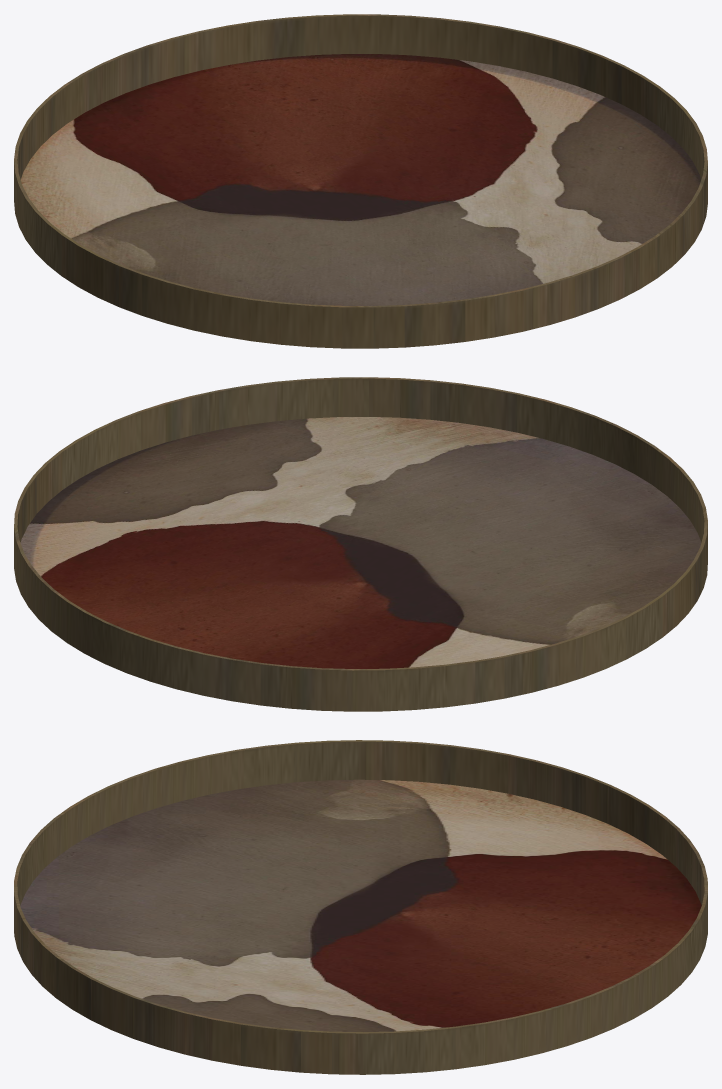
File: Overlapping_DotsGlassTray-Large.glb
3 renders of one model, top to bottom at view 1: azimuth 30°, elevation 25°; view 2: azimuth 150°, elevation 25°; view 3: azimuth 270°, elevation 25°, orthographic.
Visible parts, largest first — view 1: model 12; view 2: model 12; view 3: model 12.
Part boxes in pixels (x1,y1,x2,y2): model 12: (14,14,707,348); model 12: (14,377,707,711); model 12: (14,740,707,1074).
Bounding box in the file's own units: 0.6381 × 0.0418 × 0.6376.
2 materials, 2 textured.
